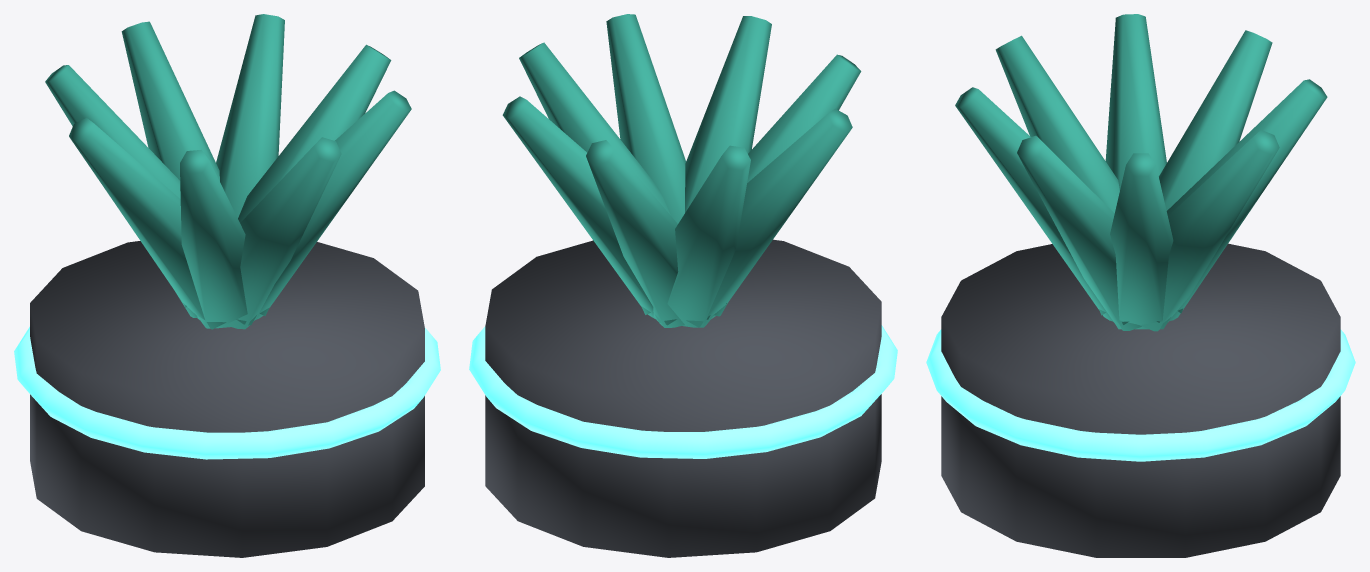
File: plant_small_glow_succulent.glb
The picture shows the model from 3 angles, left to right: view 1: azimuth 30°, elevation 25°; view 2: azimuth 150°, elevation 25°; view 3: azimuth 270°, elevation 25°; orthographic projection.
Parts seen in each view (by area): view 1: GD_plant_small_glow_succulent__m0, GD_plant_small_glow_succulent__m2, GD_plant_small_glow_succulent__m1; view 2: GD_plant_small_glow_succulent__m0, GD_plant_small_glow_succulent__m2, GD_plant_small_glow_succulent__m1; view 3: GD_plant_small_glow_succulent__m0, GD_plant_small_glow_succulent__m2, GD_plant_small_glow_succulent__m1.
Part boxes in pixels (left/top/right/bottom): GD_plant_small_glow_succulent__m0: left=30, top=241, right=424, bottom=557; GD_plant_small_glow_succulent__m2: left=45, top=14, right=411, bottom=329; GD_plant_small_glow_succulent__m1: left=14, top=326, right=440, bottom=459; GD_plant_small_glow_succulent__m0: left=485, top=239, right=881, bottom=557; GD_plant_small_glow_succulent__m2: left=502, top=14, right=861, bottom=327; GD_plant_small_glow_succulent__m1: left=469, top=325, right=897, bottom=458; GD_plant_small_glow_succulent__m0: left=941, top=243, right=1340, bottom=557; GD_plant_small_glow_succulent__m2: left=955, top=14, right=1327, bottom=331; GD_plant_small_glow_succulent__m1: left=926, top=329, right=1355, bottom=461.
Size of the model in its own units: 0.172 by 0.1737 by 0.172.
